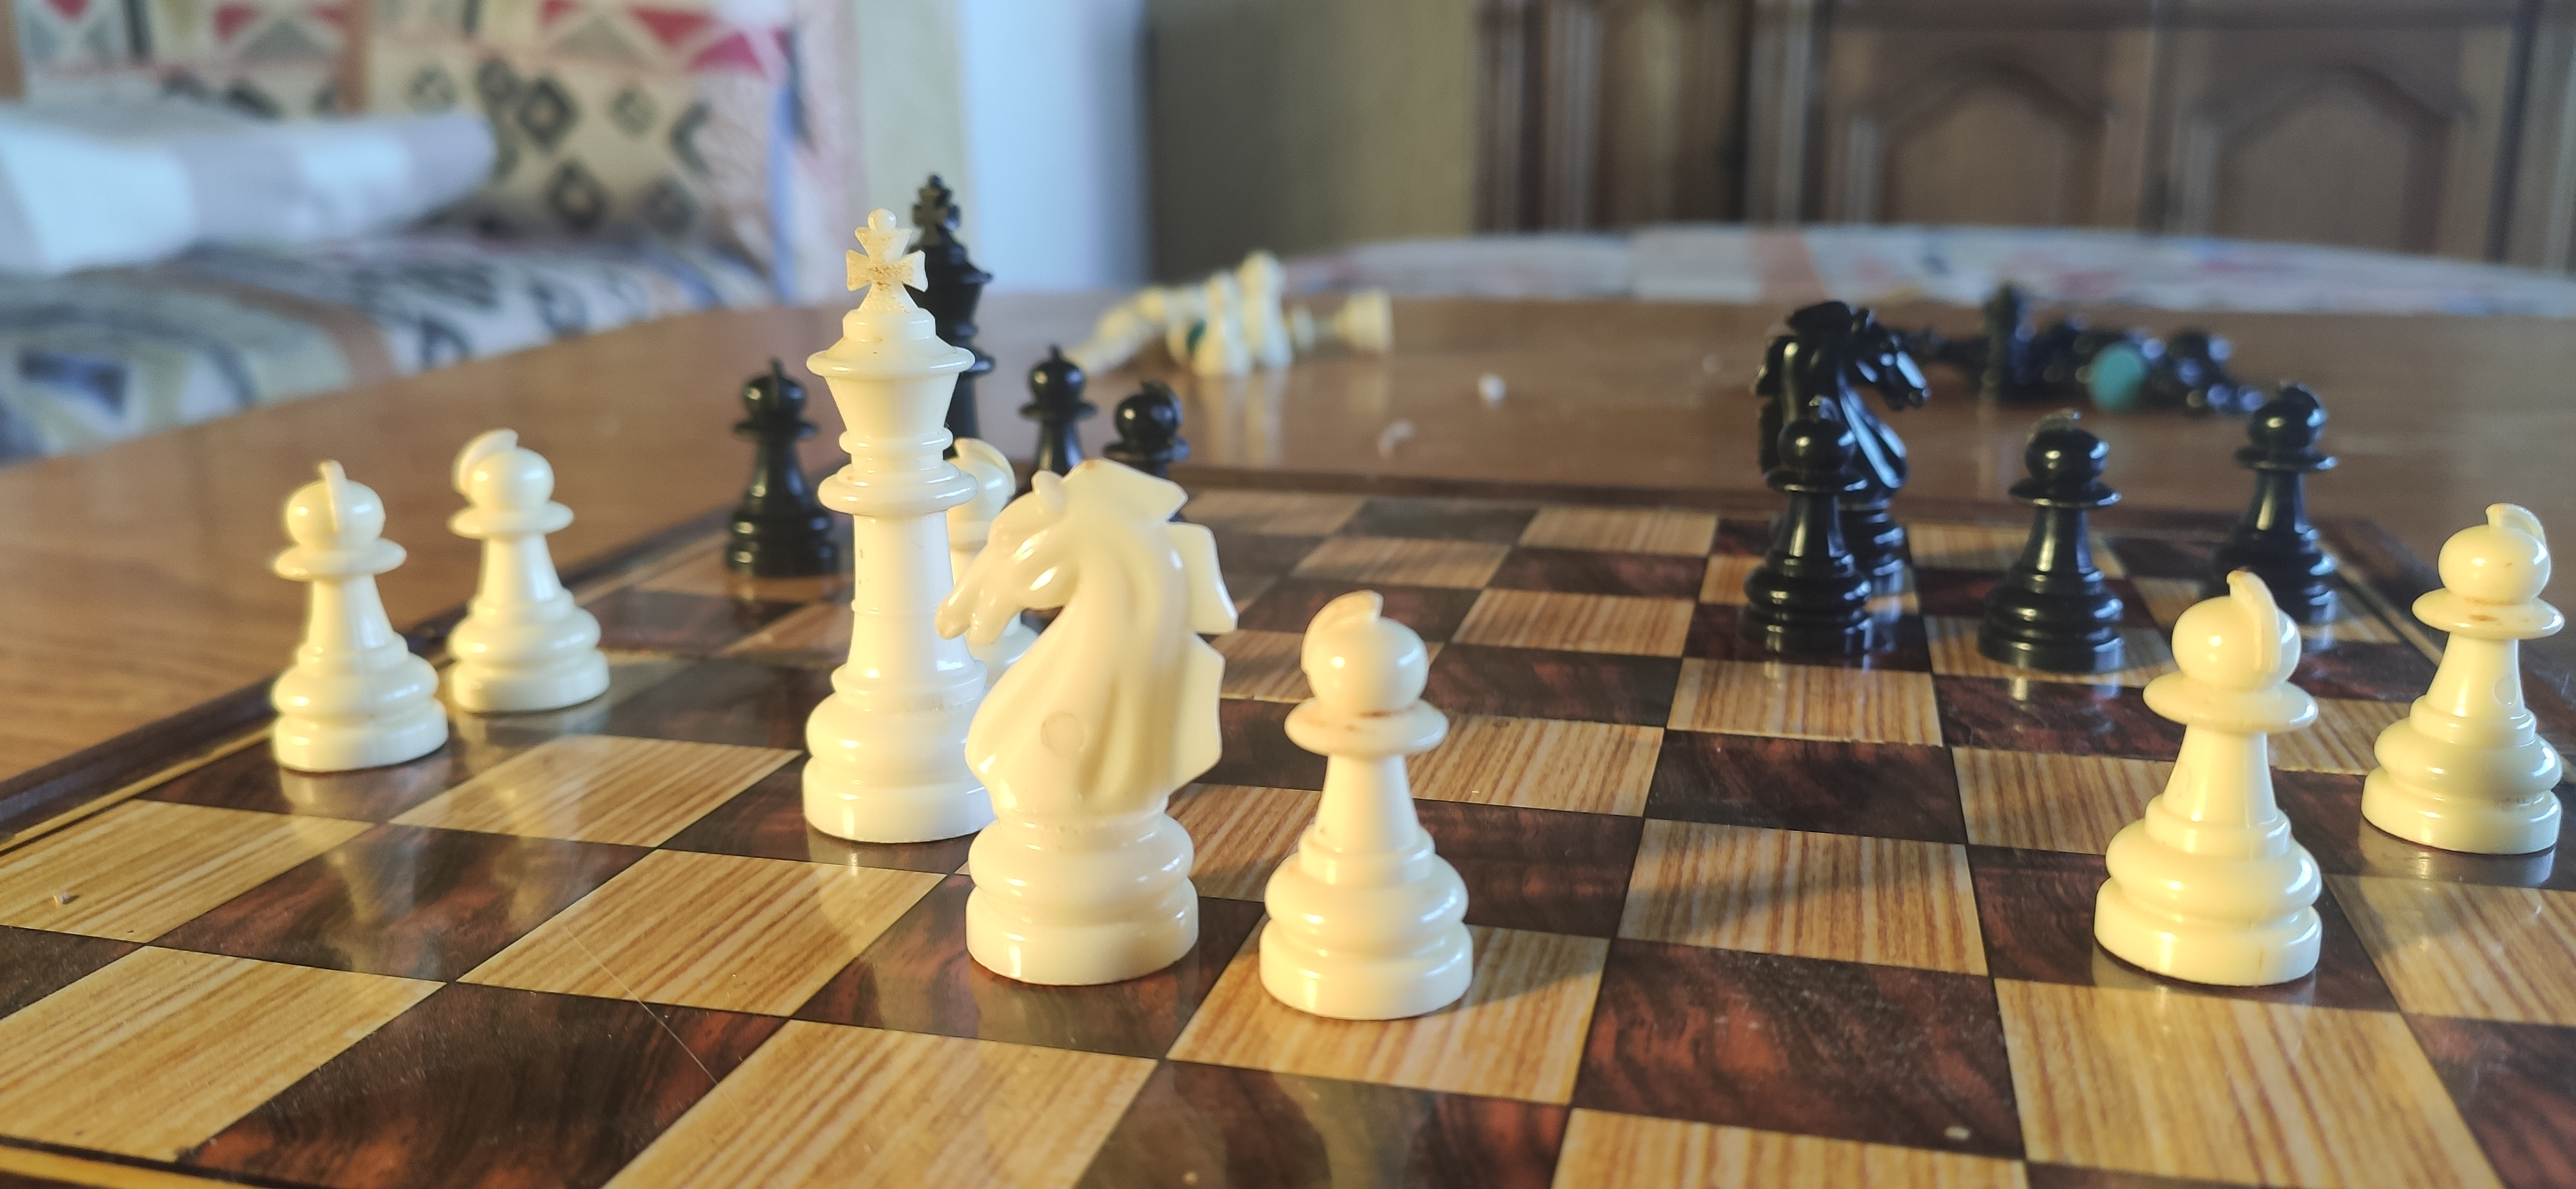BK: (909, 164, 999, 445)
BN: (1769, 281, 1932, 481)
BP: (1978, 394, 2129, 672), (1735, 394, 1868, 645), (2224, 370, 2338, 622), (720, 345, 836, 573), (1112, 378, 1198, 519), (1015, 345, 1084, 470)
WK: (805, 205, 974, 831)
WN: (958, 470, 1239, 979)
WP: (1262, 586, 1477, 1017), (2098, 557, 2316, 976), (2362, 466, 2571, 862), (255, 443, 444, 777), (434, 420, 609, 706), (930, 430, 1015, 563)
